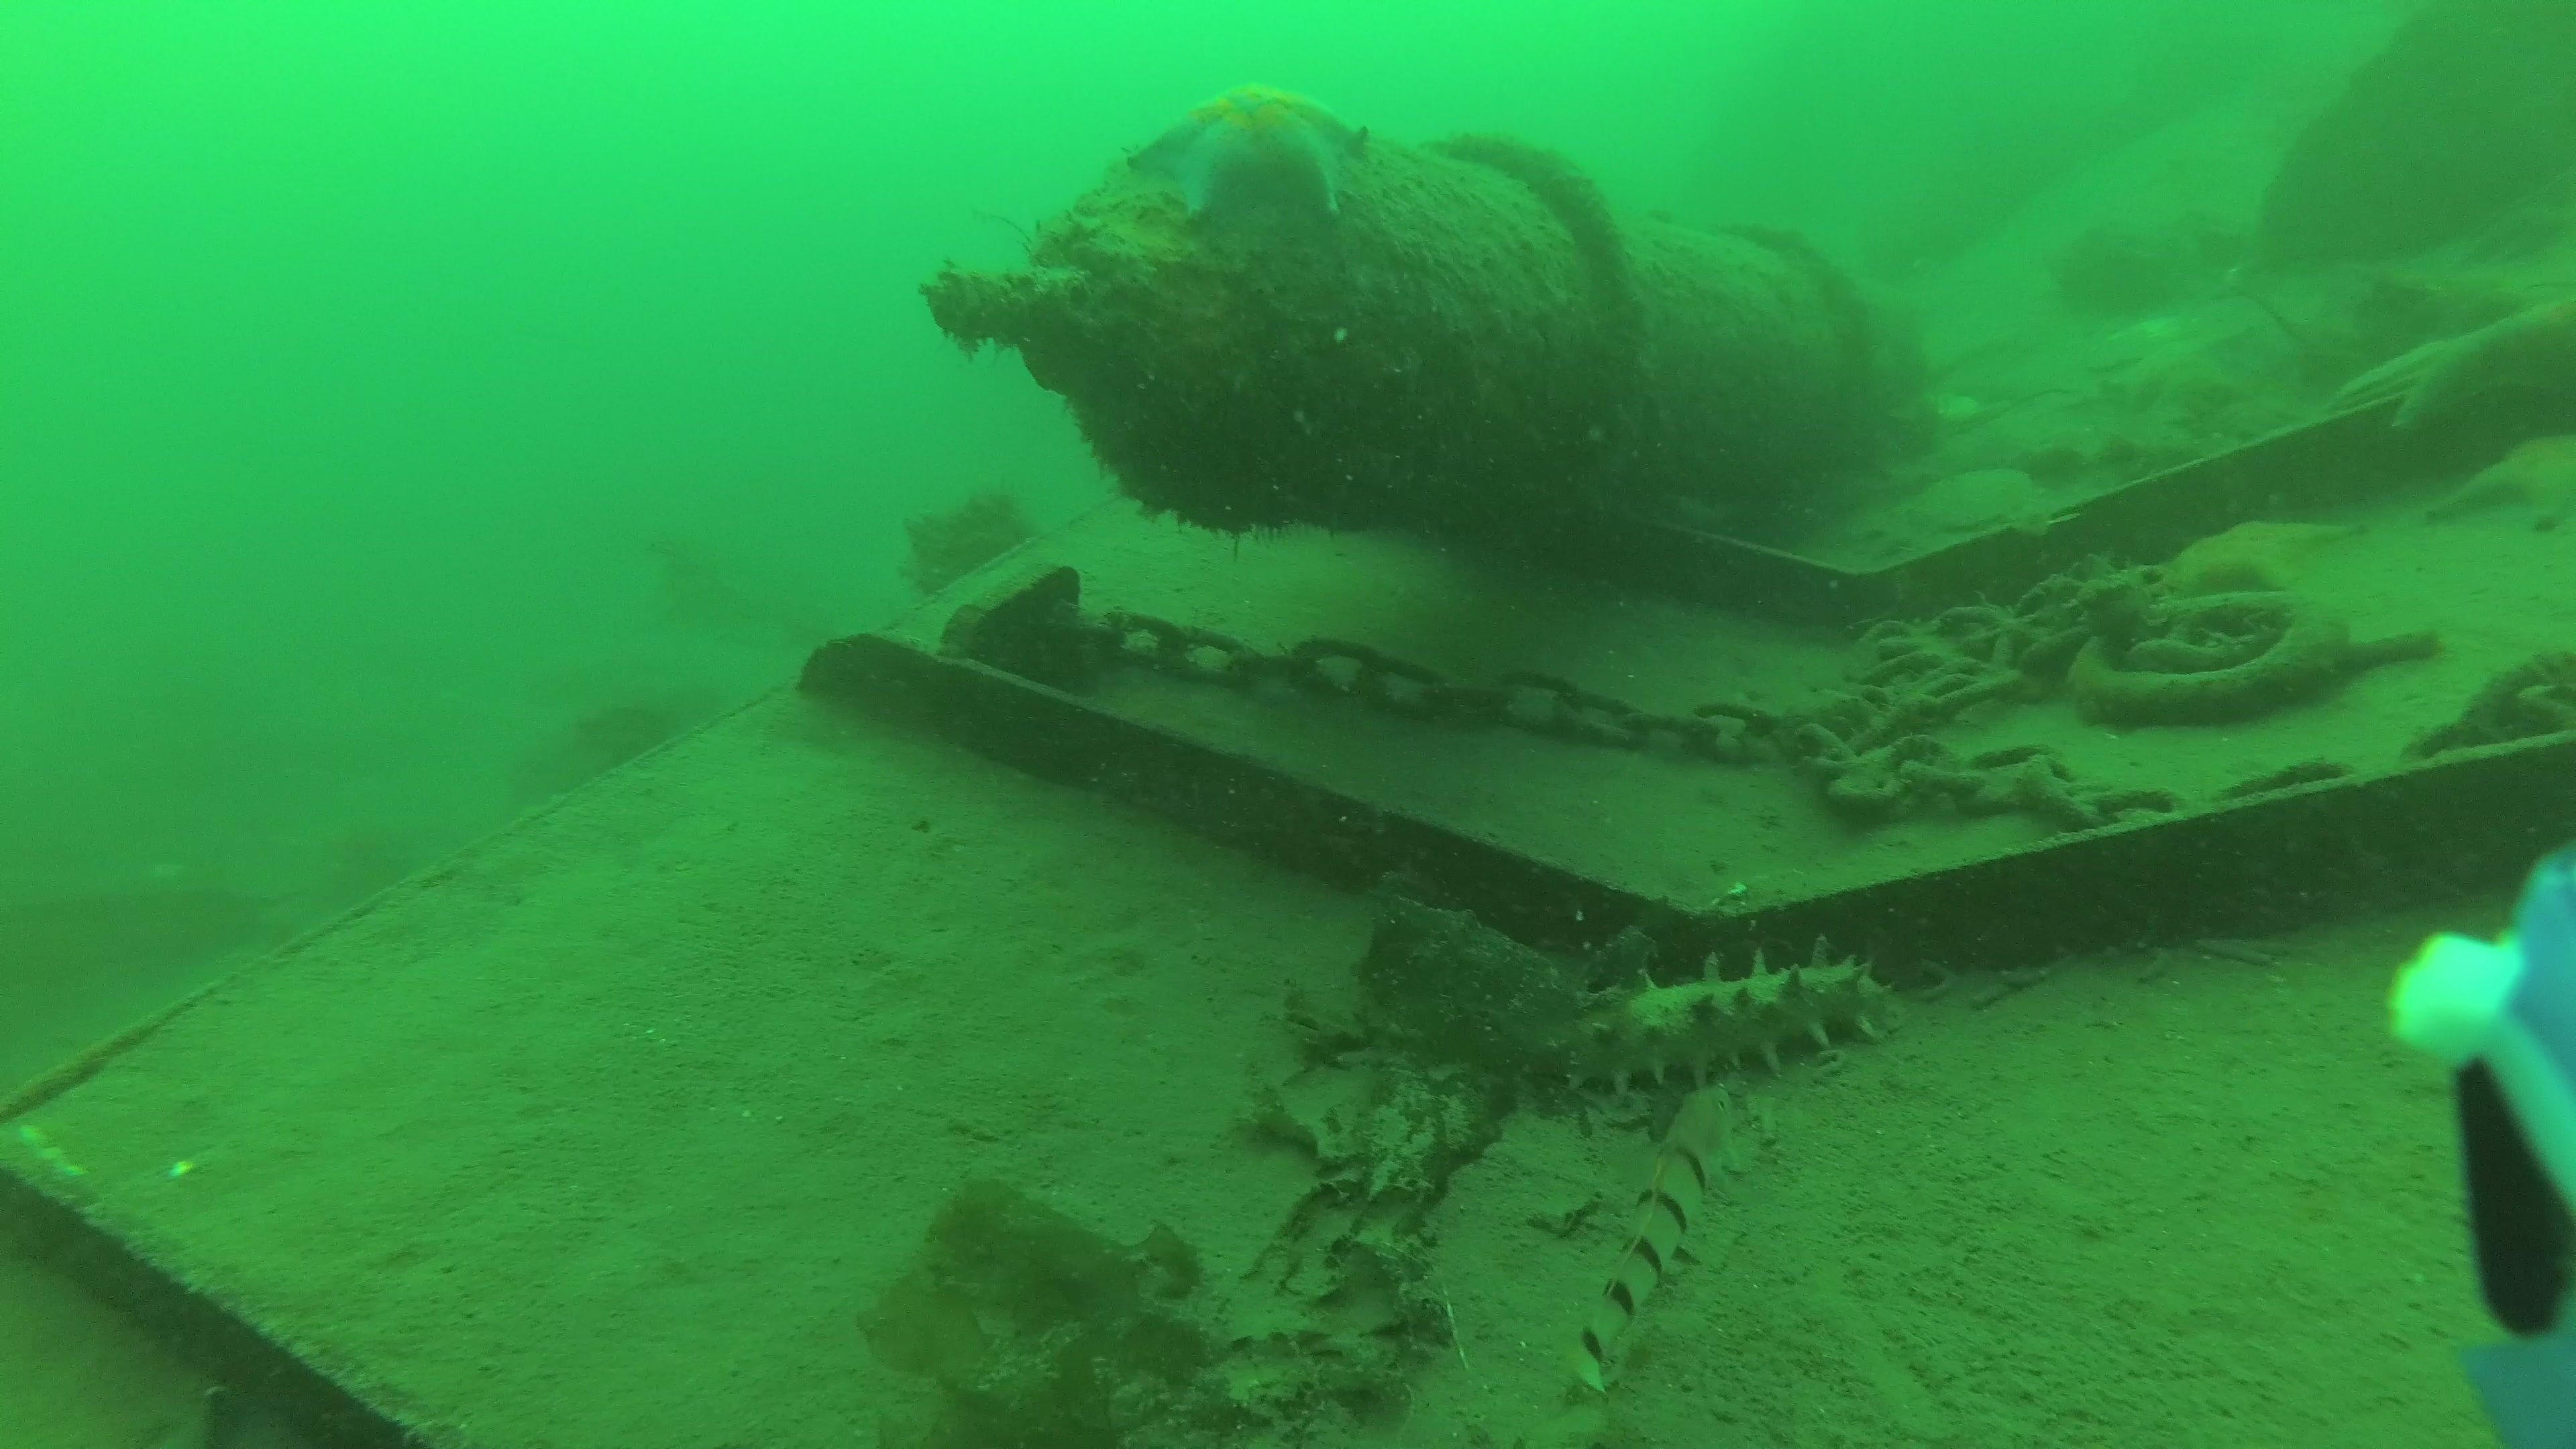holothurian: (1546, 936, 1907, 1099)
scallop: (1913, 469, 2035, 529)
starfish: (1123, 78, 1369, 223), (2335, 317, 2572, 437), (2169, 517, 2373, 596), (2434, 430, 2576, 527), (2112, 334, 2249, 419)
